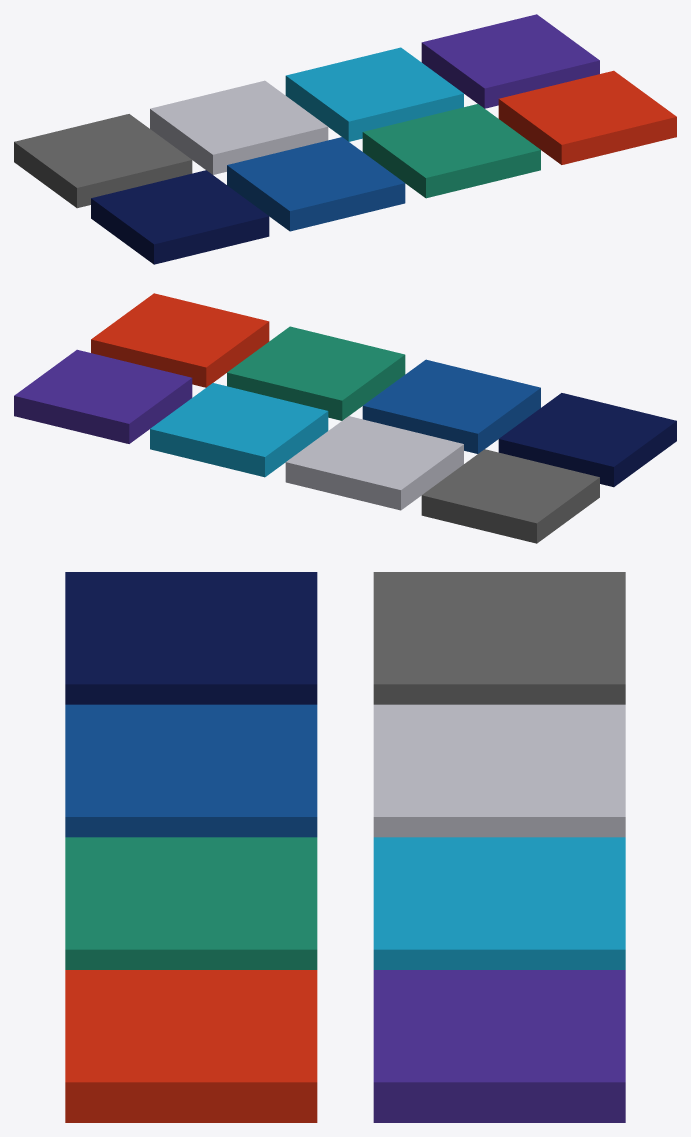
The model's file is p11_controlled_samples.obj.
3 views of the same model, one above another, from view 1: azimuth 30°, elevation 25°; view 2: azimuth 150°, elevation 25°; view 3: azimuth 270°, elevation 25° (orthographic). The views are drawn at different scales.
Visible parts, largest first — view 1: sample_21_blackbody_250K, sample_22_blackbody_300K, sample_24_blackbody_475K, sample_23_blackbody_350K, sample_25_graybody_300K, sample_28_cold_graybody_275K, sample_27_glass_300K, sample_26_reflector_300K; view 2: sample_25_graybody_300K, sample_26_reflector_300K, sample_28_cold_graybody_275K, sample_27_glass_300K, sample_21_blackbody_250K, sample_24_blackbody_475K, sample_23_blackbody_350K, sample_22_blackbody_300K; view 3: sample_24_blackbody_475K, sample_28_cold_graybody_275K, sample_22_blackbody_300K, sample_26_reflector_300K, sample_21_blackbody_250K, sample_23_blackbody_350K, sample_25_graybody_300K, sample_27_glass_300K.
Part boxes in pixels (bbox=[...]): sample_21_blackbody_250K: bbox=[91, 170, 269, 264]; sample_22_blackbody_300K: bbox=[227, 137, 405, 231]; sample_24_blackbody_475K: bbox=[498, 70, 676, 164]; sample_23_blackbody_350K: bbox=[362, 104, 540, 198]; sample_25_graybody_300K: bbox=[14, 114, 192, 208]; sample_28_cold_graybody_275K: bbox=[421, 14, 599, 108]; sample_27_glass_300K: bbox=[285, 47, 463, 141]; sample_26_reflector_300K: bbox=[150, 80, 328, 174]; sample_25_graybody_300K: bbox=[421, 449, 599, 543]; sample_26_reflector_300K: bbox=[285, 416, 463, 510]; sample_28_cold_graybody_275K: bbox=[14, 349, 192, 443]; sample_27_glass_300K: bbox=[150, 383, 328, 477]; sample_21_blackbody_250K: bbox=[498, 393, 676, 487]; sample_24_blackbody_475K: bbox=[91, 293, 269, 387]; sample_23_blackbody_350K: bbox=[227, 326, 405, 420]; sample_22_blackbody_300K: bbox=[362, 359, 540, 453]; sample_24_blackbody_475K: bbox=[65, 970, 317, 1122]; sample_28_cold_graybody_275K: bbox=[373, 970, 625, 1122]; sample_22_blackbody_300K: bbox=[65, 704, 317, 837]; sample_26_reflector_300K: bbox=[373, 704, 625, 837]; sample_21_blackbody_250K: bbox=[65, 572, 317, 704]; sample_23_blackbody_350K: bbox=[65, 837, 317, 969]; sample_25_graybody_300K: bbox=[373, 572, 625, 704]; sample_27_glass_300K: bbox=[373, 837, 625, 969].
Bounding box in the file's own units: 4.31 × 0.16 × 2.
